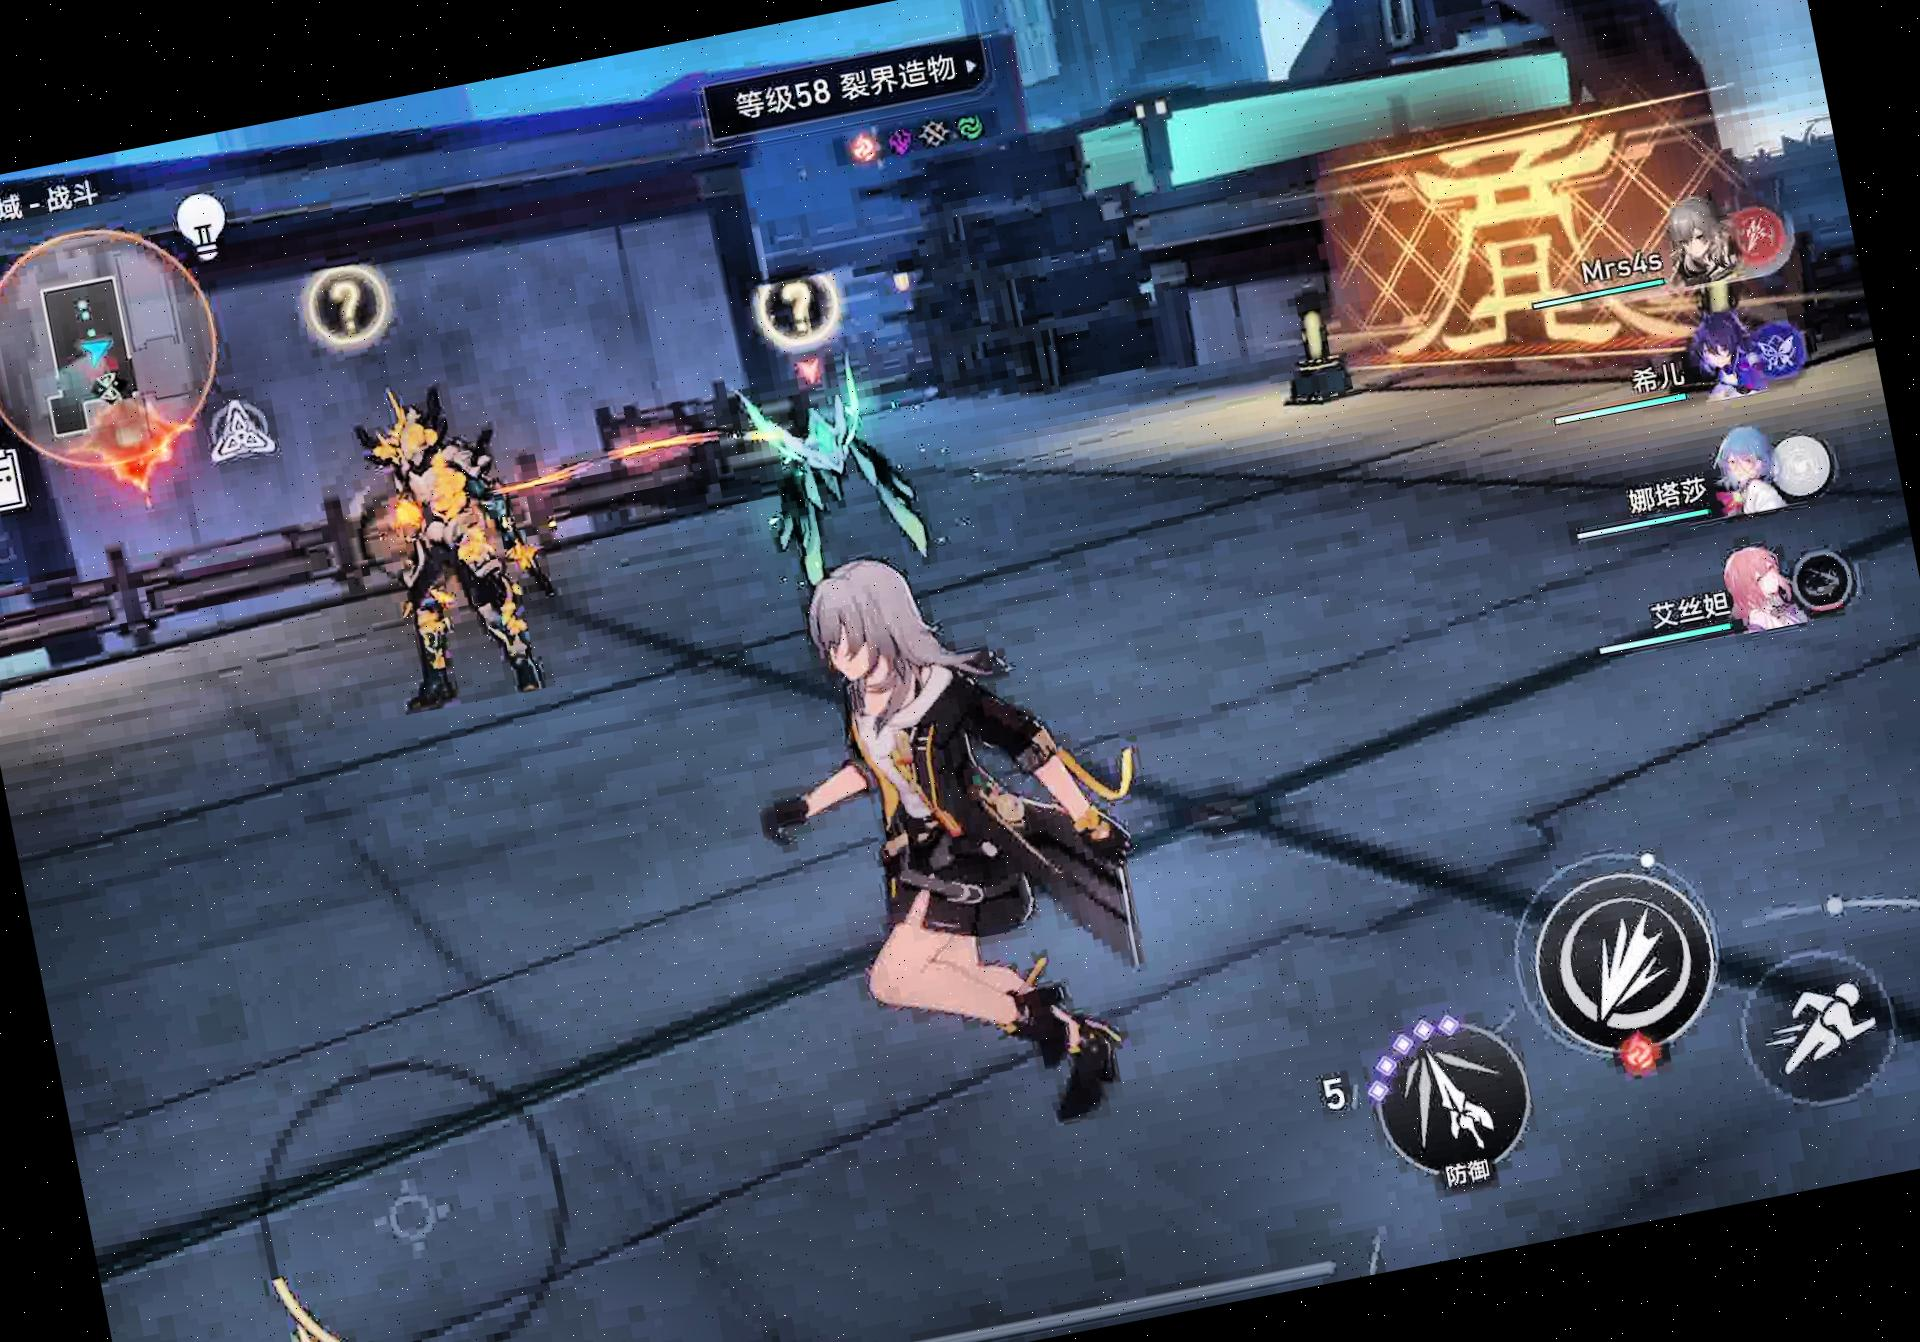BattleDoor: (51, 372, 214, 530)
Enemy: (336, 373, 570, 738), (711, 353, 956, 600)
Self: (692, 521, 1204, 1186)
